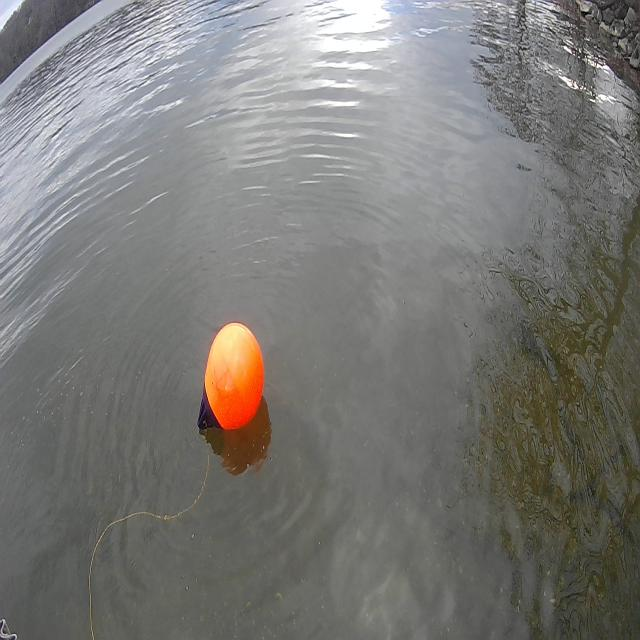Buoy: (192, 313, 268, 443)
